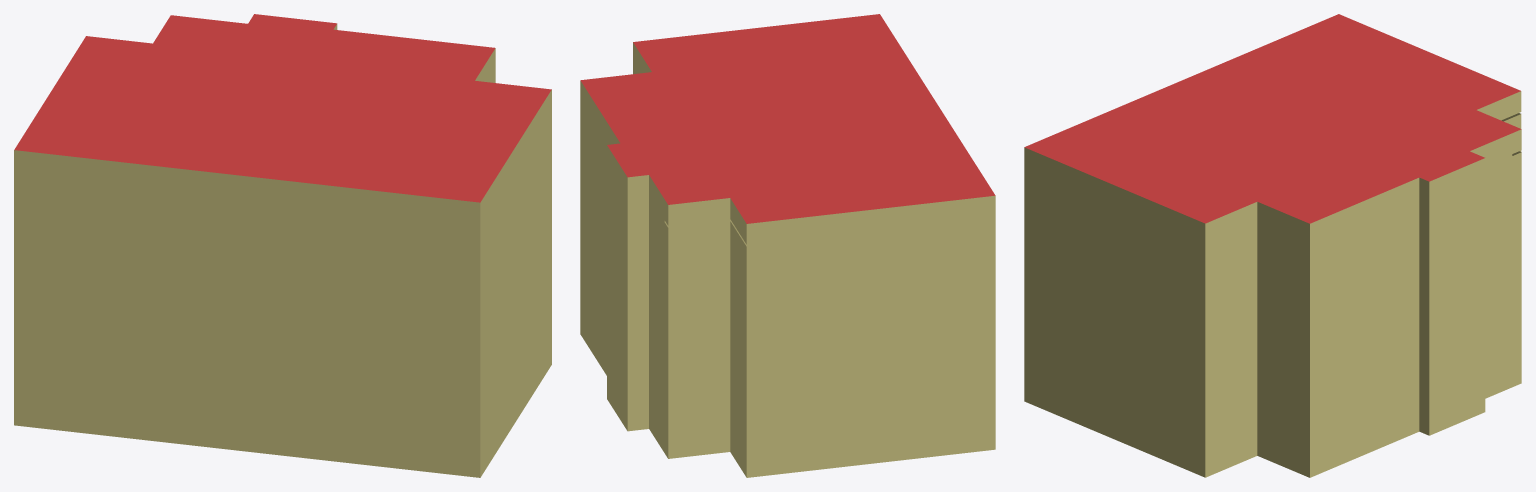
3 renders of one model, left to right at view 1: azimuth 30°, elevation 25°; view 2: azimuth 150°, elevation 25°; view 3: azimuth 270°, elevation 25°, orthographic. The views are drawn at different scales.
Visible parts, largest first — view 1: group_4, group_3; view 2: group_4, group_3; view 3: group_4, group_3.
Boxes of the visible parts, left/top/right/bottom form: group_4: left=14, top=24, right=551, bottom=477; group_3: left=14, top=14, right=551, bottom=202; group_4: left=580, top=42, right=995, bottom=477; group_3: left=580, top=14, right=995, bottom=223; group_4: left=1024, top=91, right=1521, bottom=477; group_3: left=1024, top=14, right=1521, bottom=223.
Bounding box in the file's own units: 22.39 × 22.44 × 12.64.
